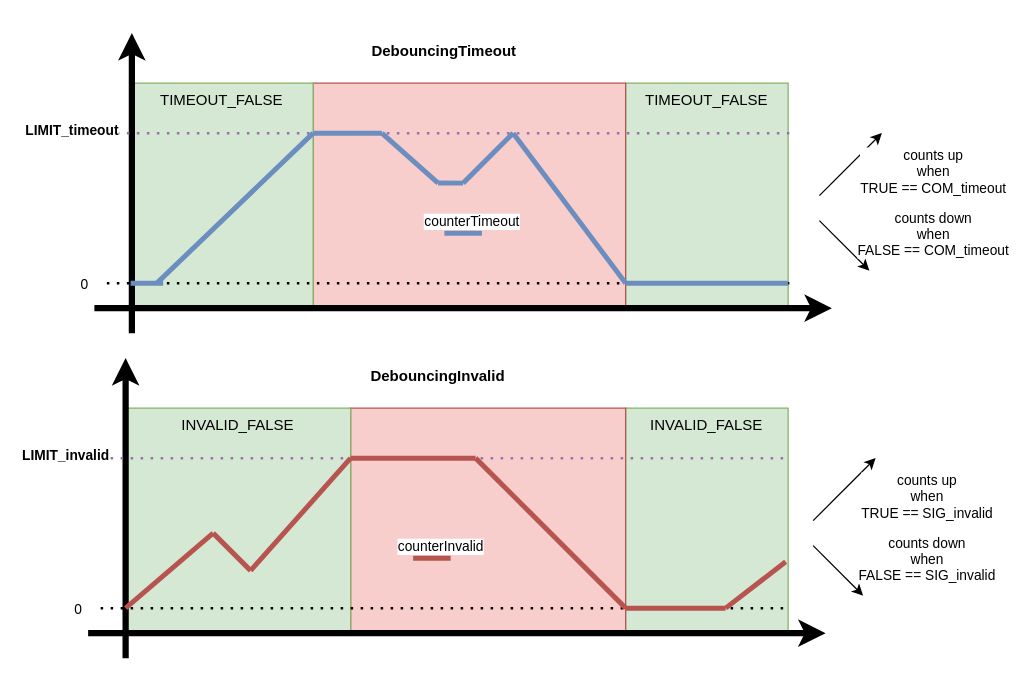
Image size: 1031x693. Some labels were removed from this diagram. The centre of each missing label's shape, as x and y in pixels:
"INVALID_TRUE" belongs at point (487, 520).
"TIMEOUT_TRUE" belongs at point (469, 195).
